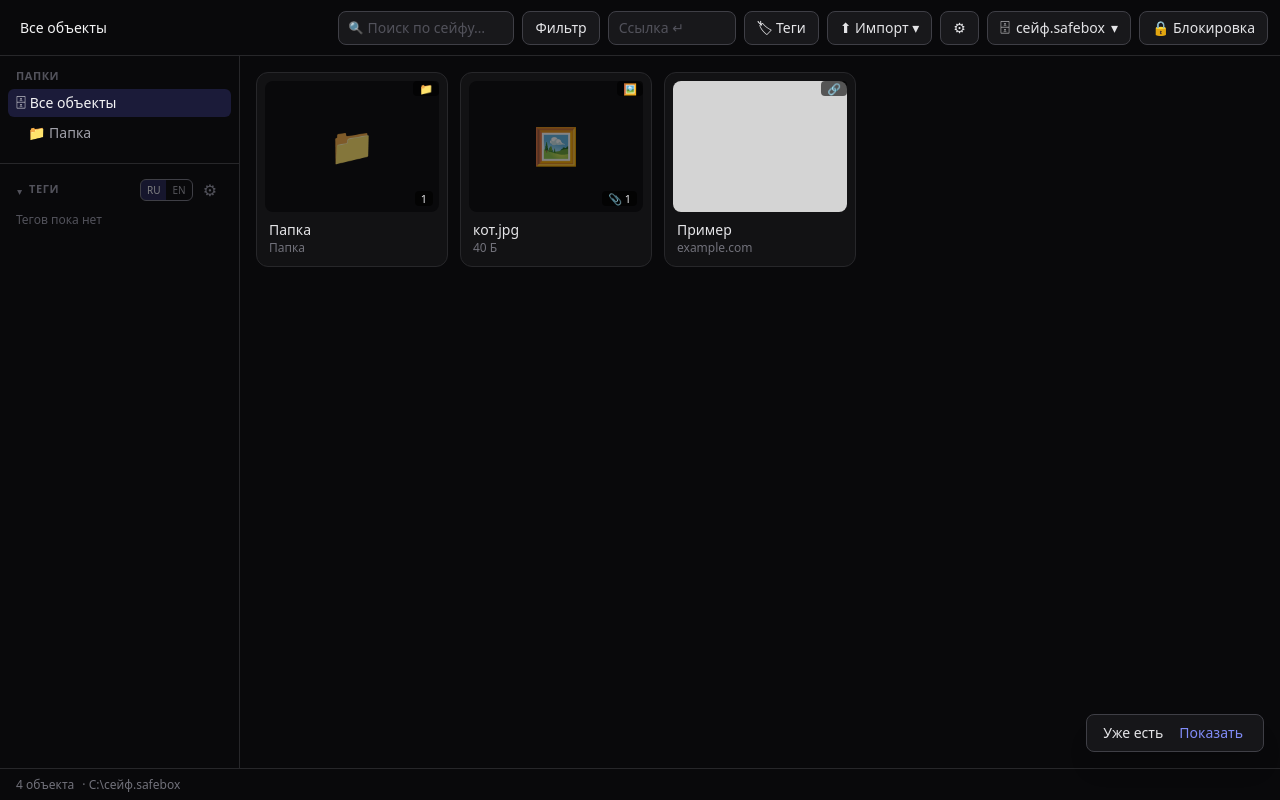
«Уже есть» (UF-20) › тост с кнопкой «Показать»: открывает папку и выделяет запись
The width and height of the screenshot is (1280, 800).
Expected: the text "кот.jpg" is shown, [473,220,519,240]
Expected: the text "Уже есть" is shown, [1103,723,1163,742]
Click the button "Показать" at (1211, 733), box [1175,723,1247,743]
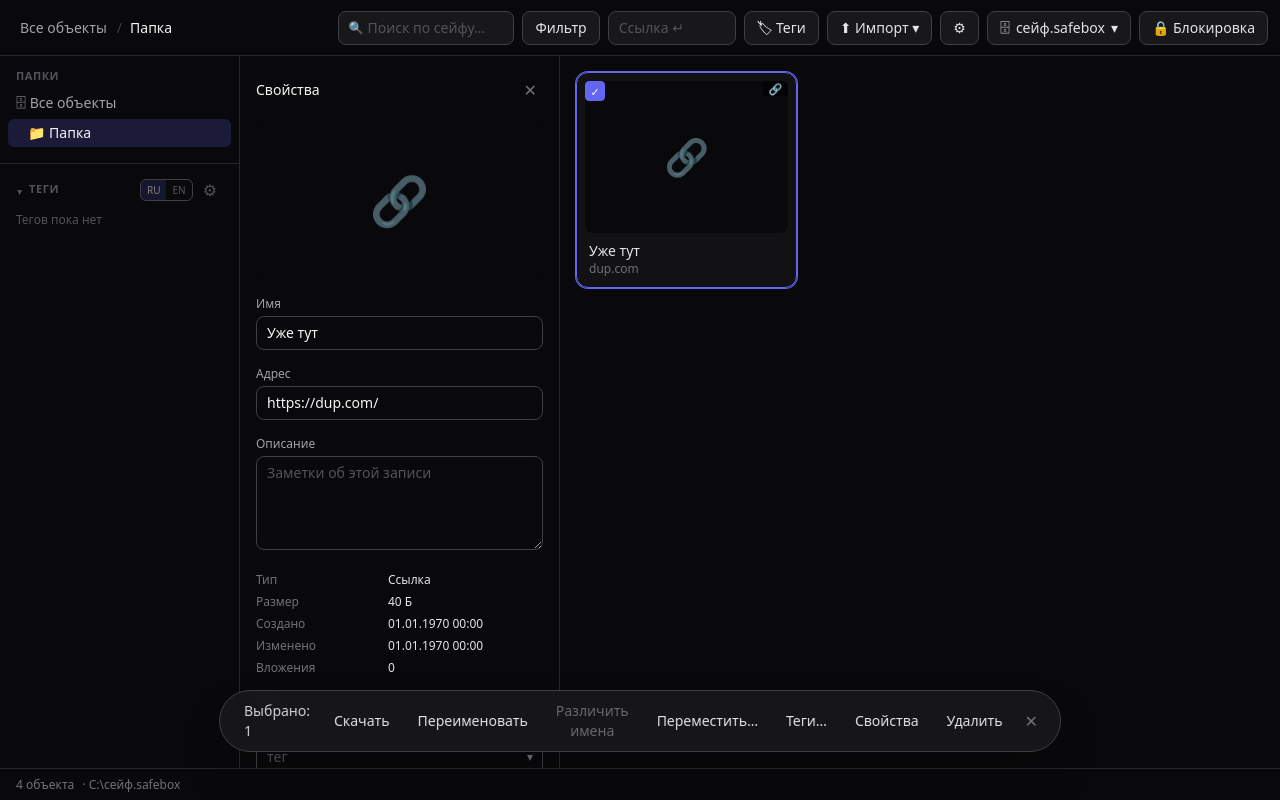
Result: the button "Показать" is gone
